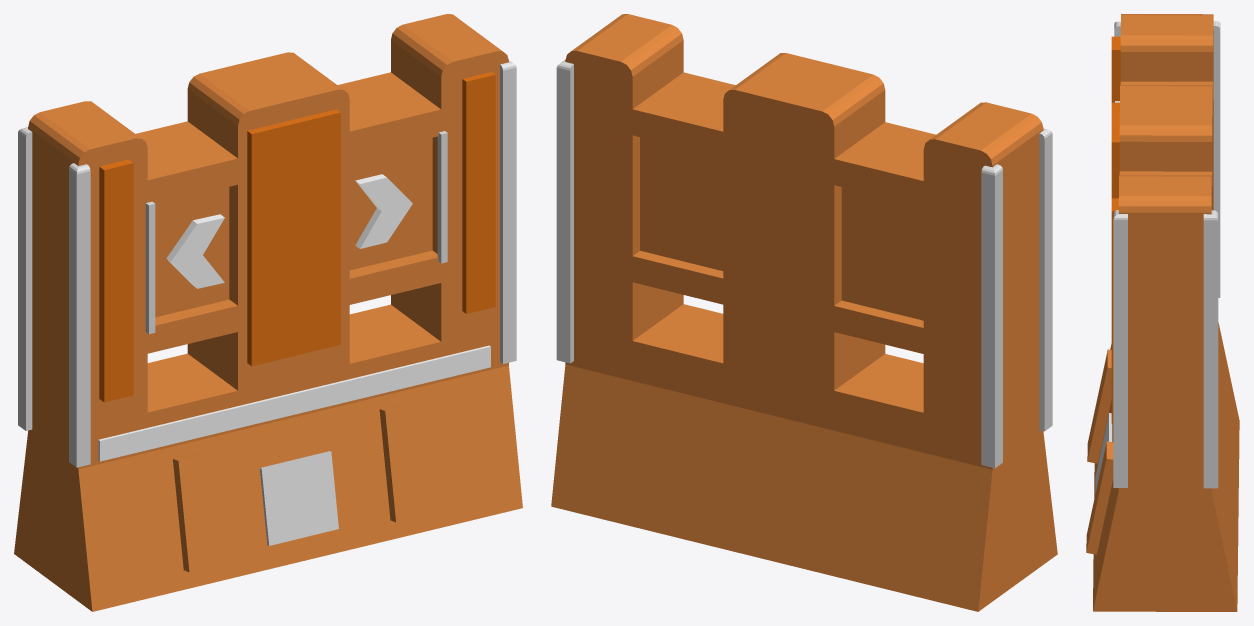
Rendered from PrimerObstaculo.fbx.
3 renders of one model, left to right at view 1: azimuth 30°, elevation 25°; view 2: azimuth 150°, elevation 25°; view 3: azimuth 270°, elevation 25°, orthographic. The views are drawn at different scales.
Visible parts, largest first — view 1: Cube.003; view 2: Cube.003; view 3: Cube.003.
Boxes of the visible parts, x1=… form: Cube.003: x1=14, y1=14, x2=522, y2=611; Cube.003: x1=551, y1=14, x2=1057, y2=611; Cube.003: x1=1086, y1=14, x2=1239, y2=611.
Bounding box in the file's own units: 2.05 × 2 × 0.6766.
